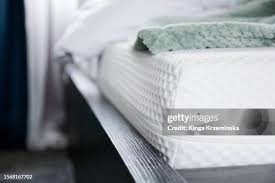bed-matress: (67, 29, 275, 170)
